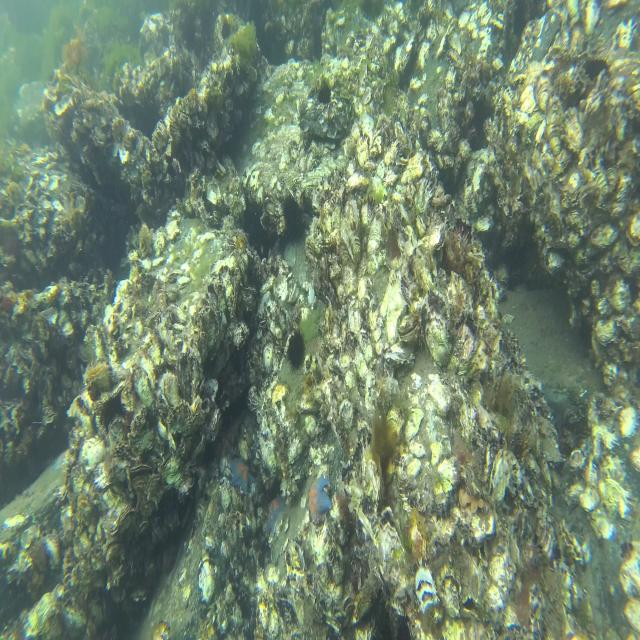echinus: (97, 387, 131, 434), (280, 193, 308, 246), (284, 326, 308, 376), (392, 601, 413, 640), (313, 77, 333, 110), (218, 14, 232, 43)
starfish: (304, 473, 333, 524), (227, 451, 255, 498), (267, 492, 288, 537)
